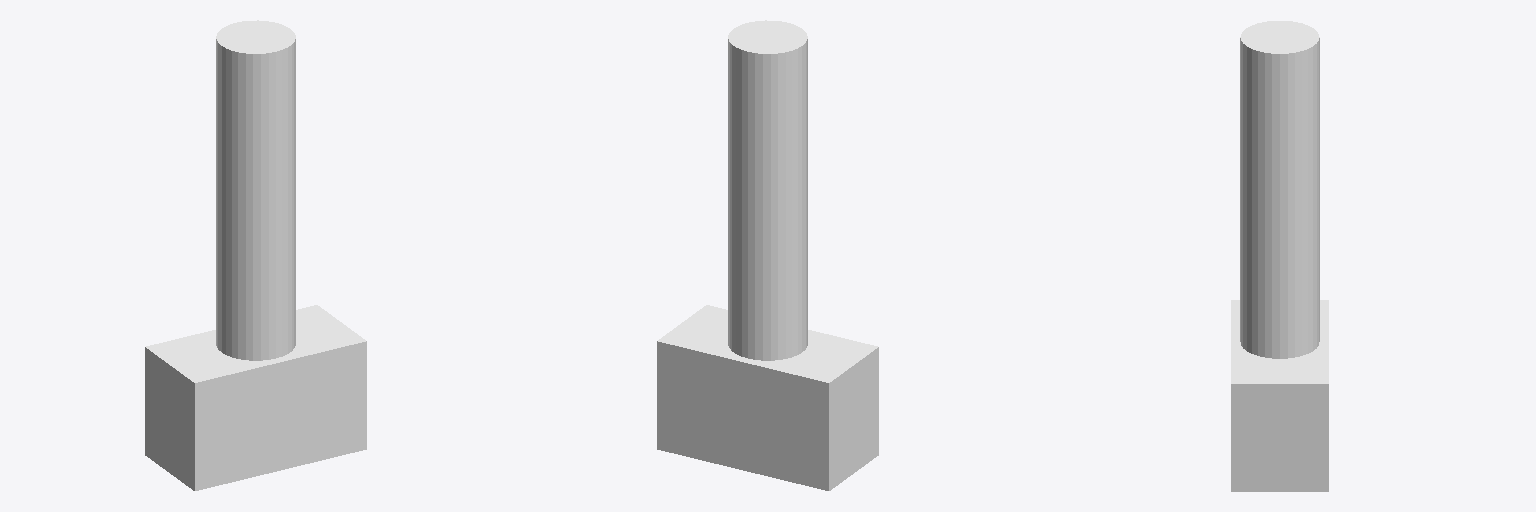
robot.urdf — robot_model:
<?xml version="1.0" ?>
<robot name="robot_model">
    <material name="material_0">
        <color rgba="1.0 1.0 1.0 1.0" />
        <texture filename="wood_0.png" />
    </material>
    <link name="base_link">
        <visual>
            <geometry>
                <box size="0.25 0.125 0.15" />
            </geometry>
            <origin rpy="0 0 0" xyz="0 0 0" />
            <material name="material_0" />
        </visual>
        <collision>
            <geometry>
                <box size="0.25 0.125 0.15" />
            </geometry>
            <origin rpy="0 0 0" xyz="0 0 0" />
        </collision>
        <inertial>
            <origin rpy="0 -0 0" xyz="0 0 0" />
            <mass value="5" />
            <inertia xx="1" xy="0" xz="0" yy="1" yz="0" zz="1" />
        </inertial>
    </link>
    <link name="node_0_link">
        <visual>
            <geometry>
                <cylinder length="0.5" radius="0.05" />
                <newton replaceWith="capsule" />
            </geometry>
            <origin rpy="-0 0 0" xyz="0 0 0.25" />
            <material name="material_0" />
        </visual>
        <collision>
            <geometry>
                <cylinder length="0.5" radius="0.05" />
                <newton replaceWith="capsule" />
            </geometry>
            <origin rpy="-0 0 0" xyz="0 0 0.25" />
        </collision>
        <inertial>
            <origin rpy="0 -0 0" xyz="0 0 0" />
            <mass value="10" />
            <inertia xx="1" xy="0" xz="0" yy="1" yz="0" zz="1" />
        </inertial>
    </link>
    <joint name="node_0_link_to_base_link" type="continuous">
        <parent link="base_link" />
        <child link="node_0_link" />
        <origin rpy="0 0 1.57075" xyz="0 0 0" />
    </joint>
</robot>

--- Facts derived from the render (not from the file) ---
The picture shows the robot from 3 angles, left to right: view 1: azimuth 30°, elevation 25°; view 2: azimuth 150°, elevation 25°; view 3: azimuth 270°, elevation 25°; orthographic projection.
Robot: robot_model — 2 links, 1 joints (1 continuous); root link base_link; default pose: all joints at 0.
Visible links, largest first — view 1: base_link, node_0_link; view 2: base_link, node_0_link; view 3: node_0_link, base_link.
Boxes of the visible links, left/top/right/bottom form: base_link: left=145, top=305, right=366, bottom=490; node_0_link: left=216, top=20, right=295, bottom=360; base_link: left=657, top=305, right=878, bottom=490; node_0_link: left=728, top=20, right=807, bottom=360; node_0_link: left=1240, top=21, right=1319, bottom=358; base_link: left=1231, top=300, right=1328, bottom=491.
Size in the robot's own frame: 0.25 by 0.125 by 0.575 metres.
Geometry: primitives only (box / cylinder / sphere), no mesh files.
